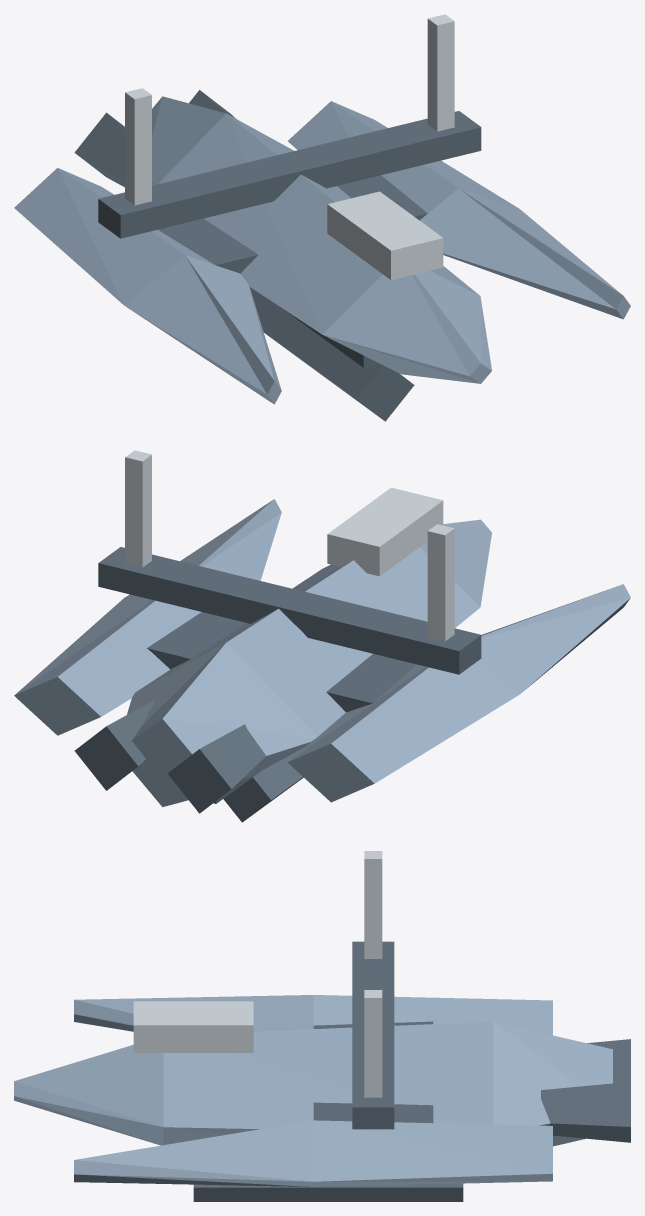
3 renders of one model, top to bottom at view 1: azimuth 30°, elevation 25°; view 2: azimuth 150°, elevation 25°; view 3: azimuth 270°, elevation 25°, orthographic. The views are drawn at different scales.
Bounding box in the file's own units: 2.61 × 1.86 × 3.75.
